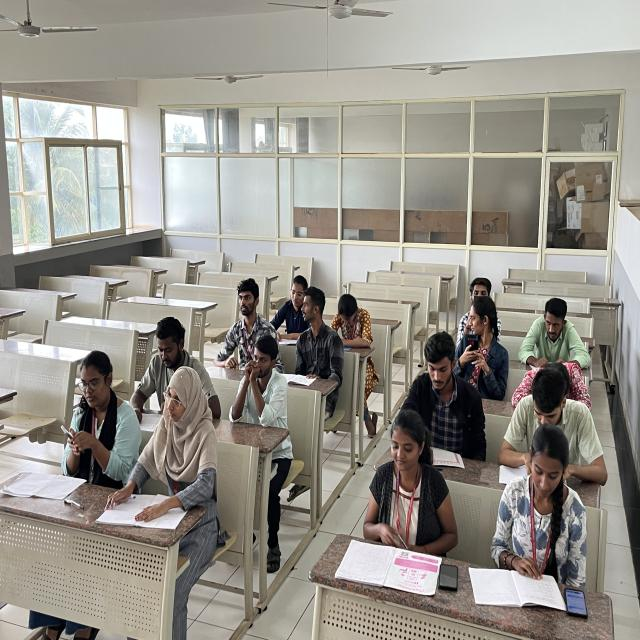Reading: (345, 400, 466, 596), (111, 356, 223, 548), (483, 425, 588, 601), (124, 314, 220, 442), (332, 284, 384, 389), (268, 270, 310, 348)
Using Phone: (42, 346, 150, 510), (503, 364, 608, 490), (456, 293, 512, 397)
Writing: (380, 326, 490, 481), (213, 274, 279, 382)
